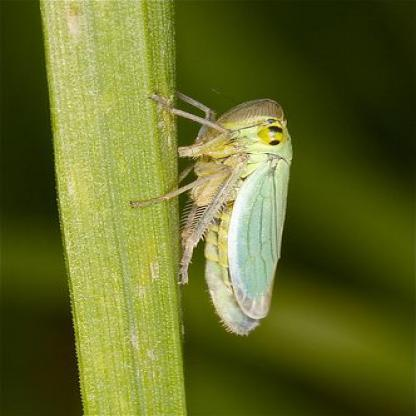Green-Leafhopper: (143, 83, 296, 344)
